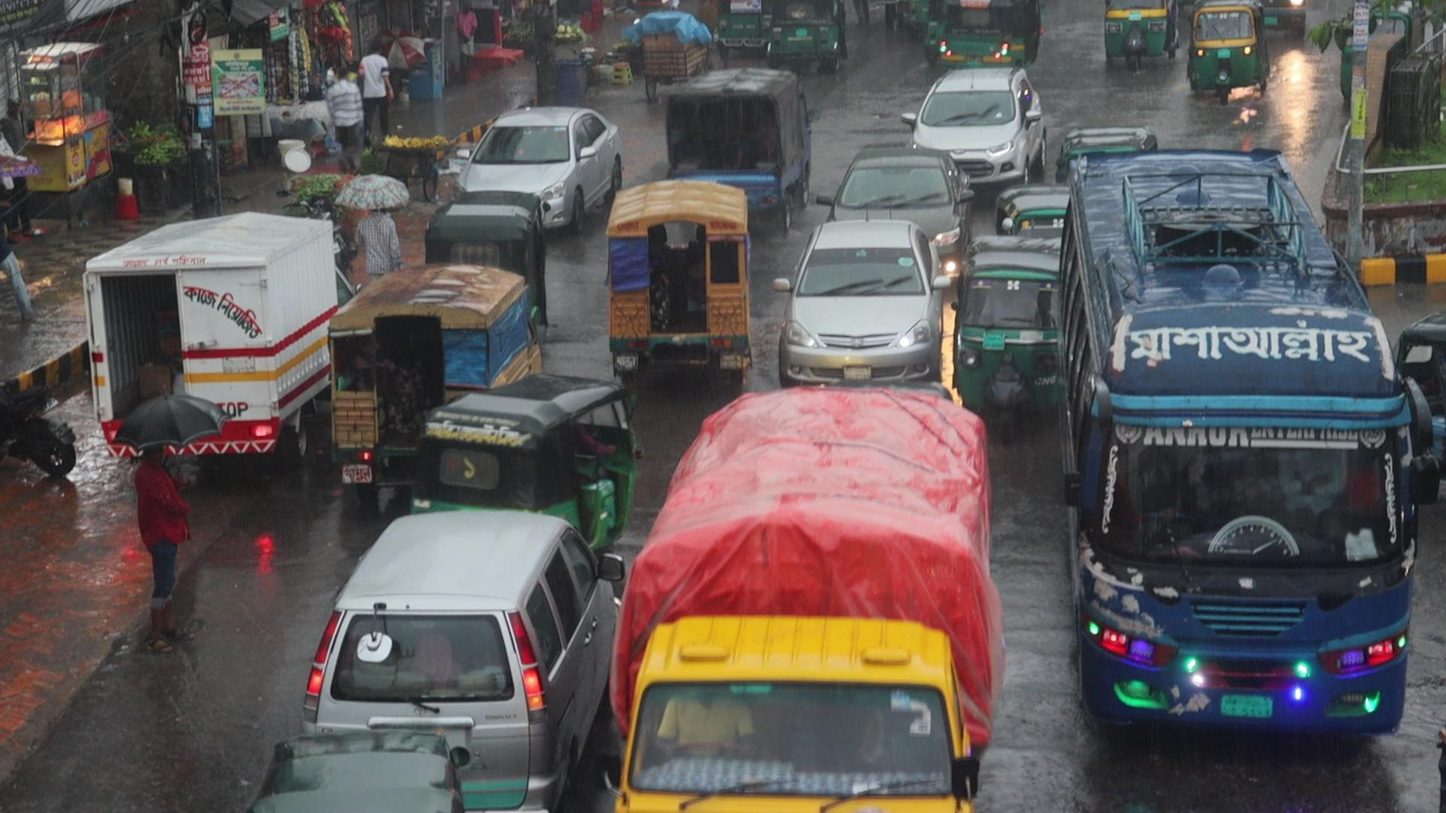Bus: (1055, 145, 1411, 750)
Car: (297, 503, 614, 762), (771, 217, 950, 388), (817, 146, 976, 238), (903, 64, 1047, 160)
Truck: (615, 386, 992, 813), (326, 260, 537, 413), (602, 180, 758, 386), (662, 65, 810, 182)
